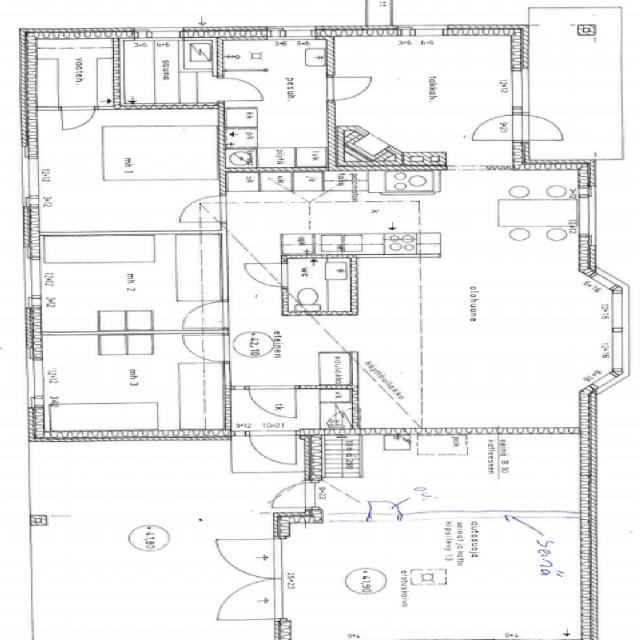door: (207, 579, 292, 621), (207, 538, 292, 579), (248, 429, 298, 471), (260, 483, 323, 510), (248, 387, 296, 420), (173, 195, 229, 223), (510, 116, 569, 142), (468, 116, 527, 142), (176, 334, 228, 362), (175, 302, 228, 329), (326, 76, 379, 102), (220, 75, 269, 101), (242, 264, 288, 288), (367, 495, 404, 524), (60, 106, 94, 132)
